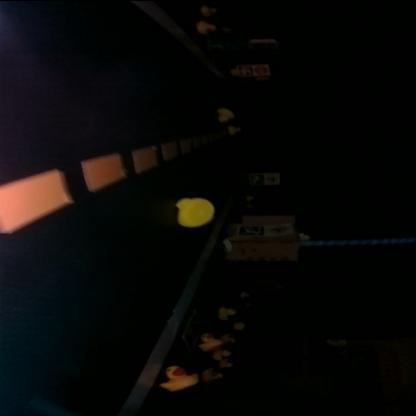Duckie: (178, 197, 214, 225), (166, 364, 200, 388), (202, 334, 221, 348), (196, 20, 216, 31), (204, 368, 223, 379), (218, 306, 236, 317), (220, 107, 235, 119), (215, 348, 231, 358), (300, 230, 312, 239), (204, 6, 219, 13), (230, 124, 242, 132), (224, 334, 236, 341), (236, 320, 246, 328), (221, 359, 232, 366), (244, 290, 250, 296)
Intersection sign: (268, 223, 294, 234), (268, 172, 280, 184)
QR code: (240, 224, 265, 234), (252, 172, 265, 184)
